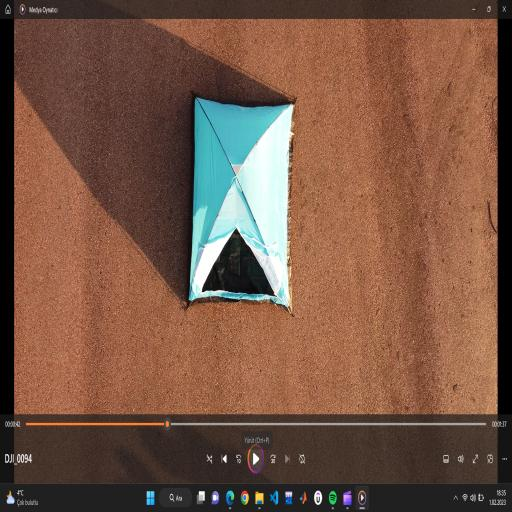tent: (185, 82, 299, 314)
